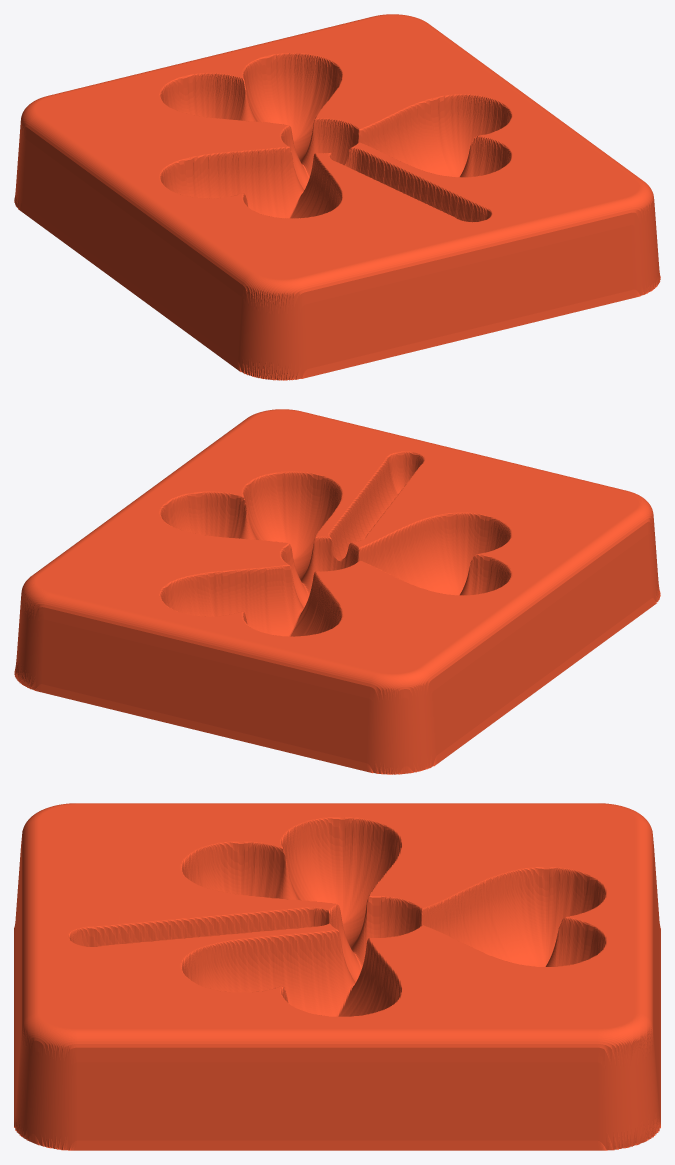
Rendered from mold.glb.
3 views of the same model, one above another, from view 1: azimuth 30°, elevation 25°; view 2: azimuth 150°, elevation 25°; view 3: azimuth 270°, elevation 25° (orthographic). The views are drawn at different scales.
Parts seen in each view (by area): view 1: geometry_0; view 2: geometry_0; view 3: geometry_0.
Part boxes in pixels (x1,y1,x2,y2): geometry_0: (14,14,660,380); geometry_0: (14,409,660,774); geometry_0: (14,803,660,1150).
Bounding box in the file's own units: 0.083 × 0.0175 × 0.0924.
